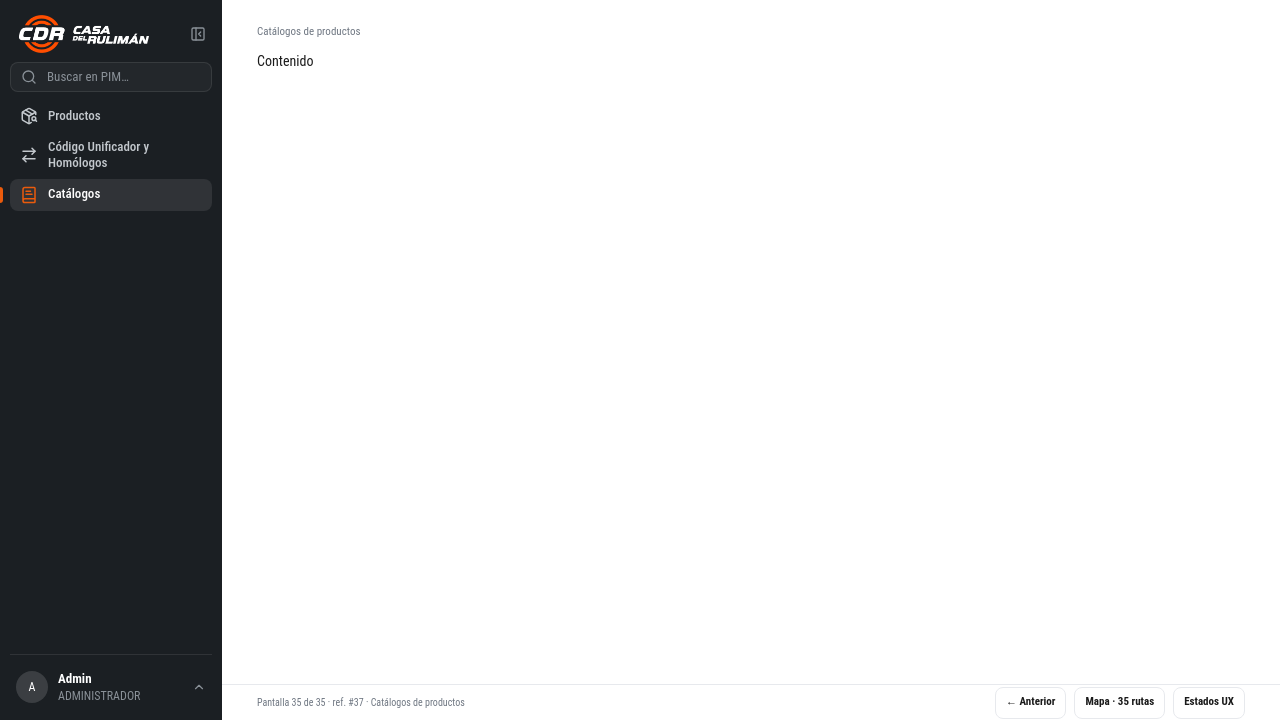
Test: AppShell navigation › closes account tools with Escape and restores focus to the account button
The width and height of the screenshot is (1280, 720).
Step 1. Click the button with aria-label "Cuenta de Admin" → (111, 687), box [10,665,212,710]
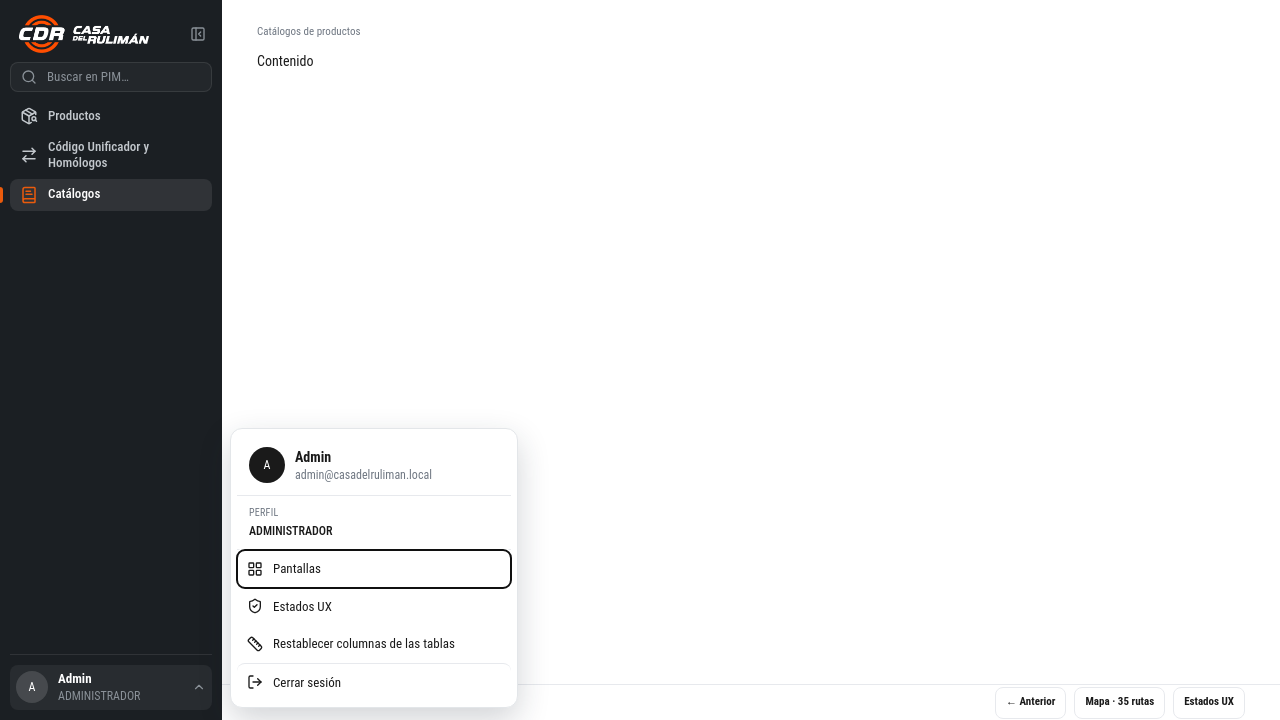
Now the element named "Cuenta" is shown, box [230,428,518,708]
Step 2. Press Escape
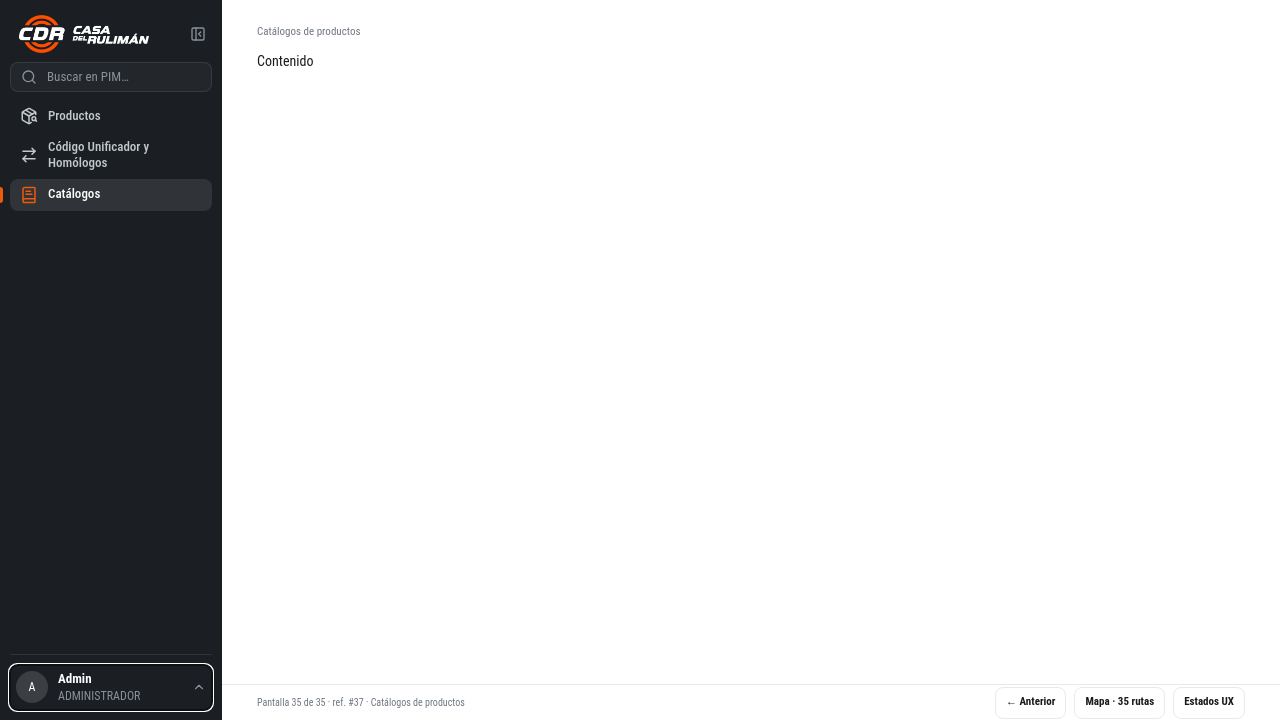
Expected: the navigation bar named "Módulos del PIM" is shown, [10,107,212,210]
Now the element "Cuenta" is gone
